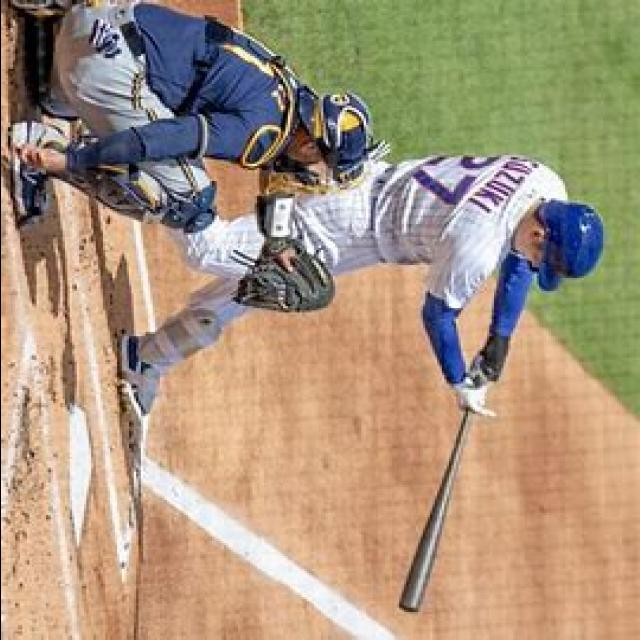bat: (392, 406, 479, 618)
